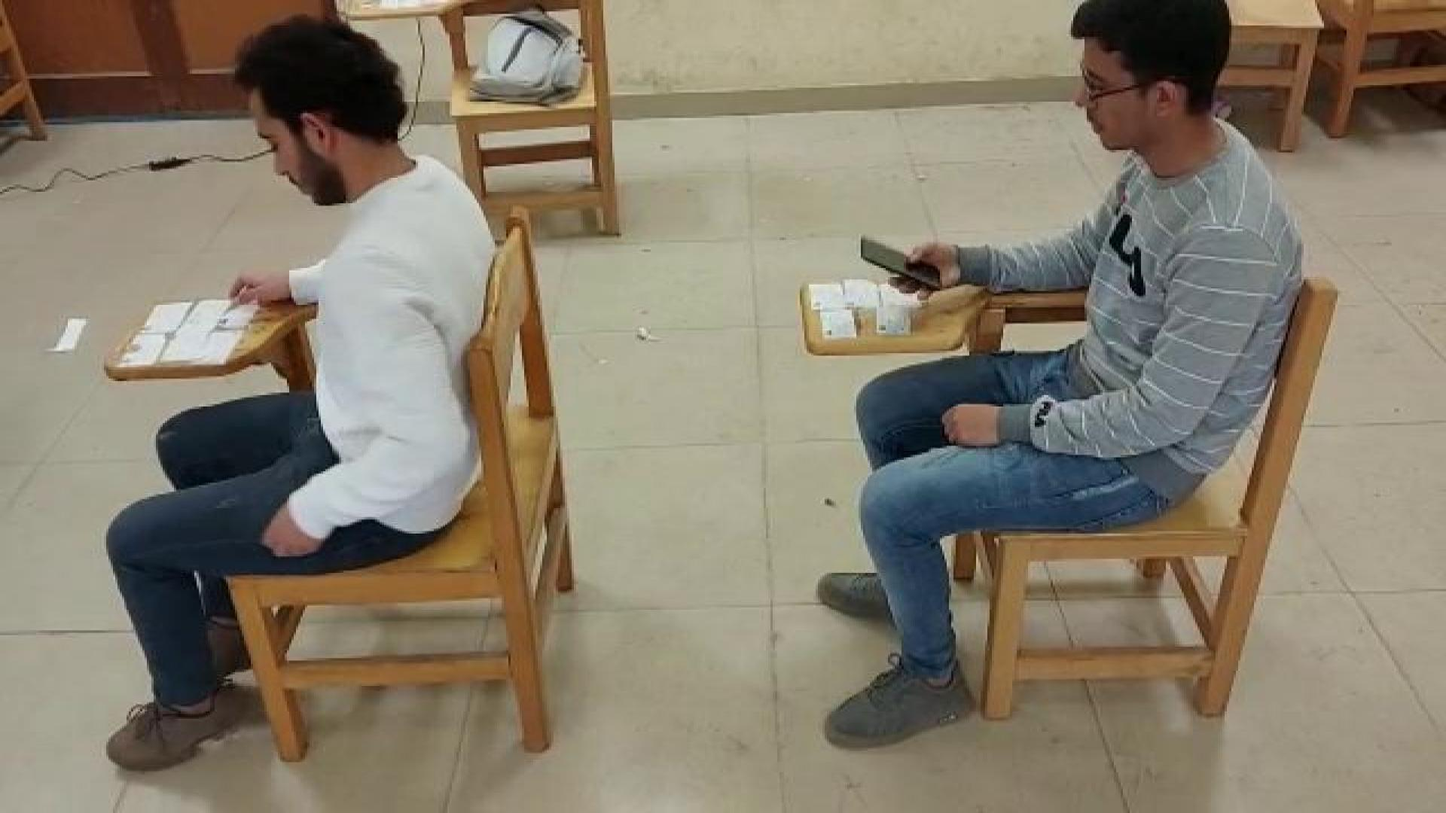phone: (859, 233, 947, 289)
